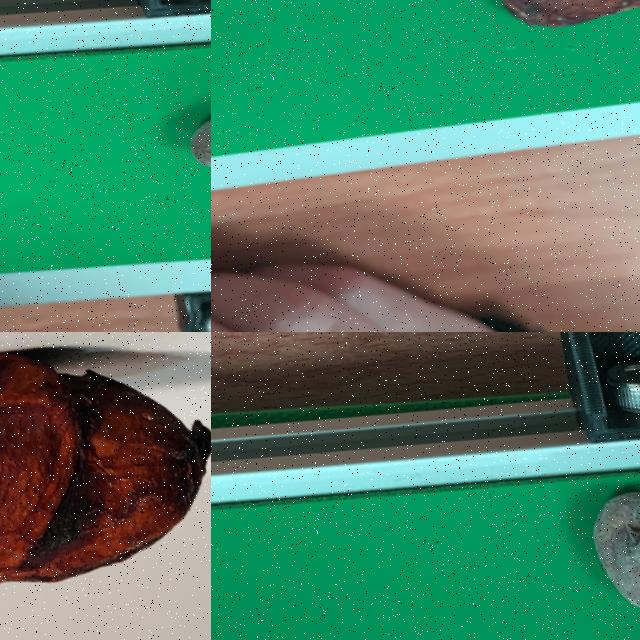Agglomerated_cocoabeans: (0, 332, 210, 639), (442, 406, 639, 639)
Fine_cocoabeans: (73, 0, 210, 258)
Flat_cocoabeans: (407, 0, 639, 82)
